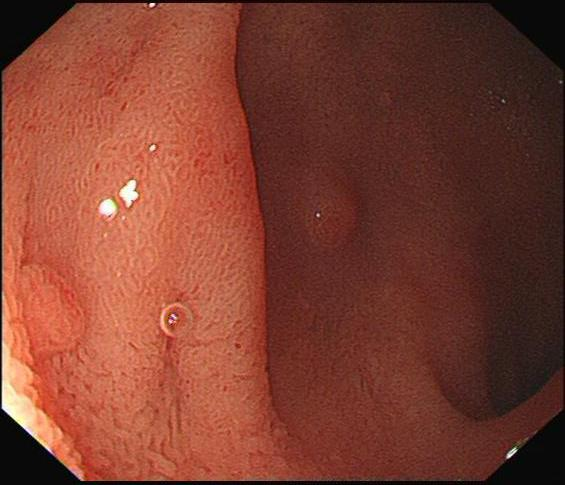Polyp: (13, 265, 89, 365), (289, 165, 365, 259)
